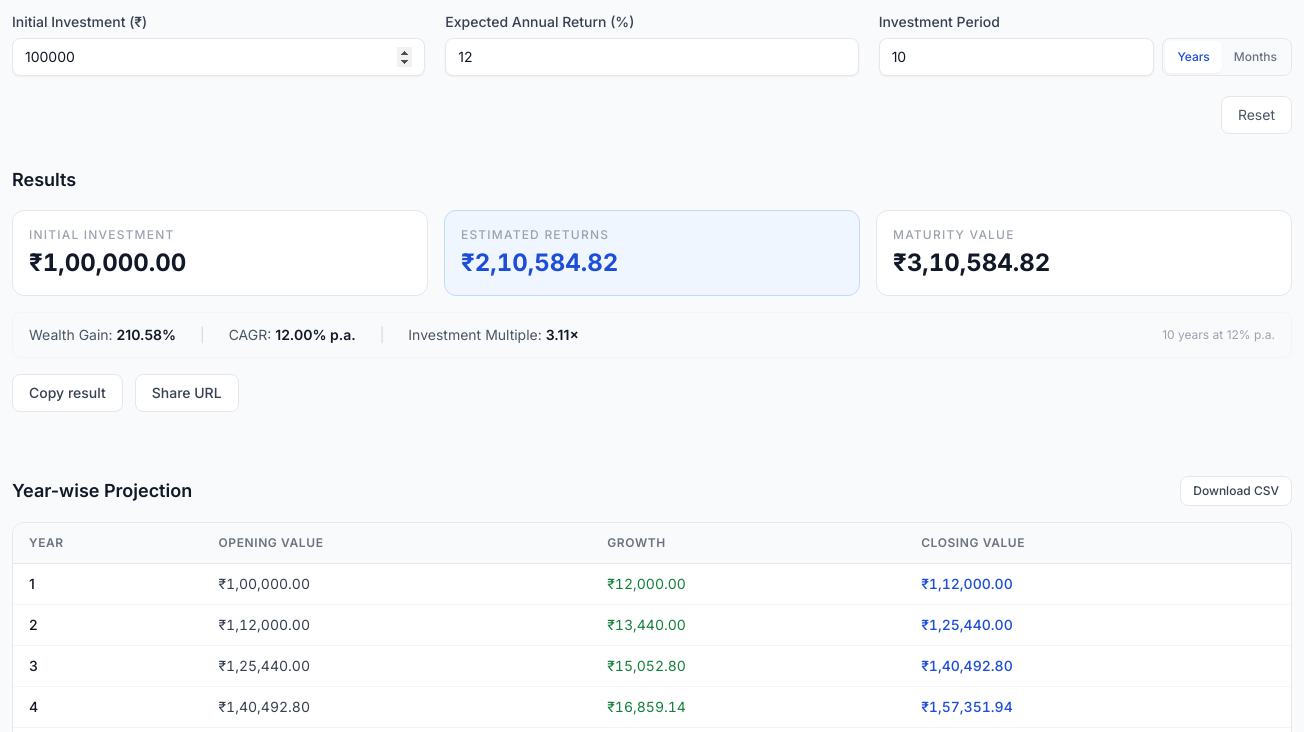
Test: LumpsumCalculator › shows error when initial investment is 0
The width and height of the screenshot is (1304, 732).
Replace the text in the number field labelled "Initial Investment (₹)" with "0". click: (219, 57)
box: [12,38,425,76]
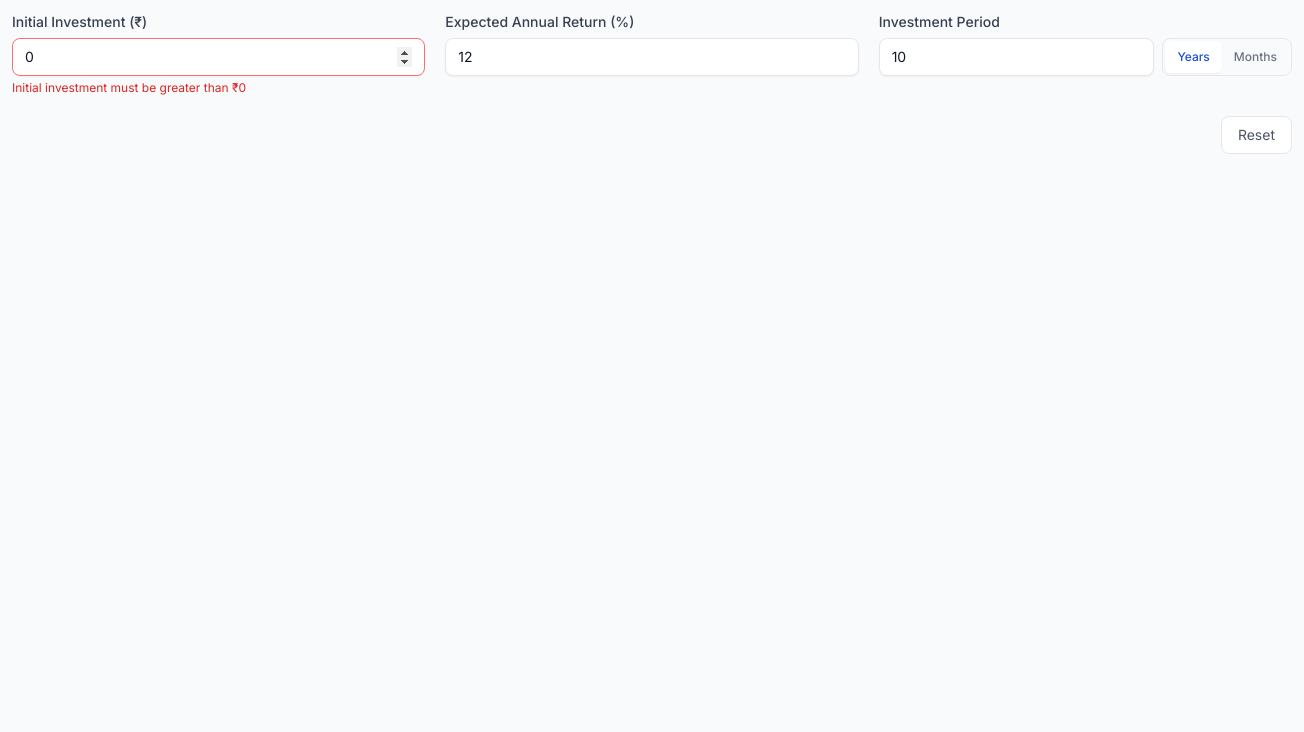
Expected: the text "Initial investment must be greater than ₹0" is shown, [12,80,246,95]
